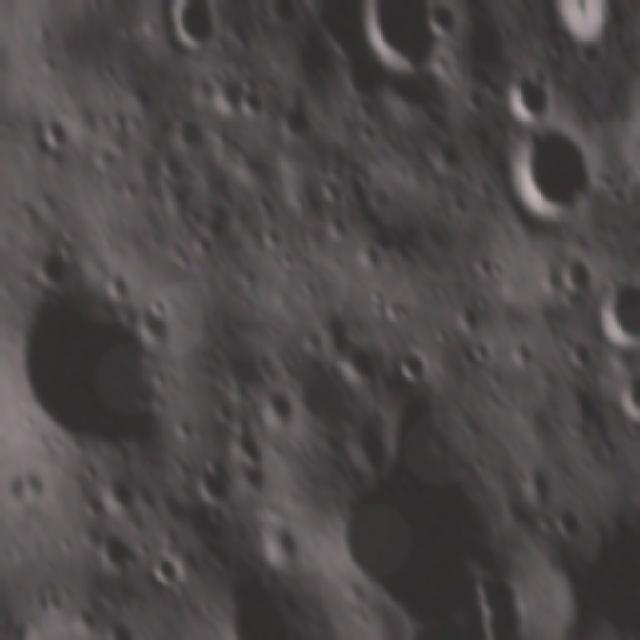crater: (295, 377, 516, 640), (2, 269, 178, 476), (492, 107, 608, 230), (345, 0, 466, 94), (206, 552, 331, 640), (543, 496, 640, 598), (286, 340, 360, 429), (584, 270, 640, 359), (214, 322, 275, 400), (496, 53, 558, 129), (85, 519, 146, 579), (533, 0, 593, 58), (465, 562, 526, 616), (186, 447, 237, 511), (28, 234, 80, 294), (256, 514, 306, 575), (335, 335, 387, 391), (269, 95, 320, 152), (132, 299, 180, 355), (604, 360, 640, 433), (170, 14, 227, 60), (96, 465, 142, 520), (554, 242, 600, 295), (390, 337, 435, 388), (204, 69, 247, 122), (144, 546, 190, 594), (148, 138, 192, 188), (258, 376, 298, 430), (422, 0, 470, 45), (554, 329, 598, 376), (232, 70, 270, 124), (128, 374, 168, 420), (361, 172, 401, 217), (169, 109, 209, 153), (516, 459, 555, 504), (32, 112, 73, 154), (449, 76, 489, 119), (98, 262, 138, 304), (548, 500, 587, 542), (465, 244, 504, 284), (318, 205, 356, 246), (462, 331, 500, 371), (264, 0, 307, 35), (257, 218, 291, 256), (313, 170, 347, 207), (364, 219, 398, 256), (75, 451, 108, 486), (101, 614, 142, 640), (208, 396, 238, 429), (73, 488, 105, 518), (353, 163, 381, 197), (142, 25, 168, 43)
